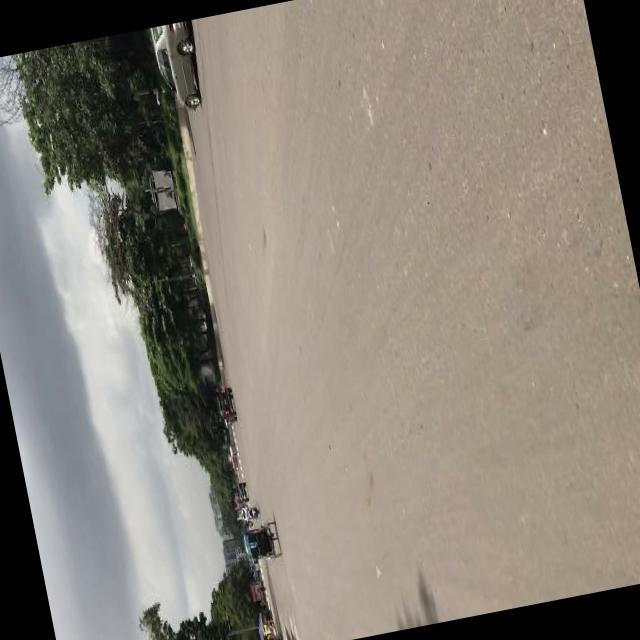car: (149, 23, 208, 120), (214, 388, 238, 428), (234, 482, 250, 504)
motorcycle: (239, 521, 283, 568), (241, 508, 261, 523)
